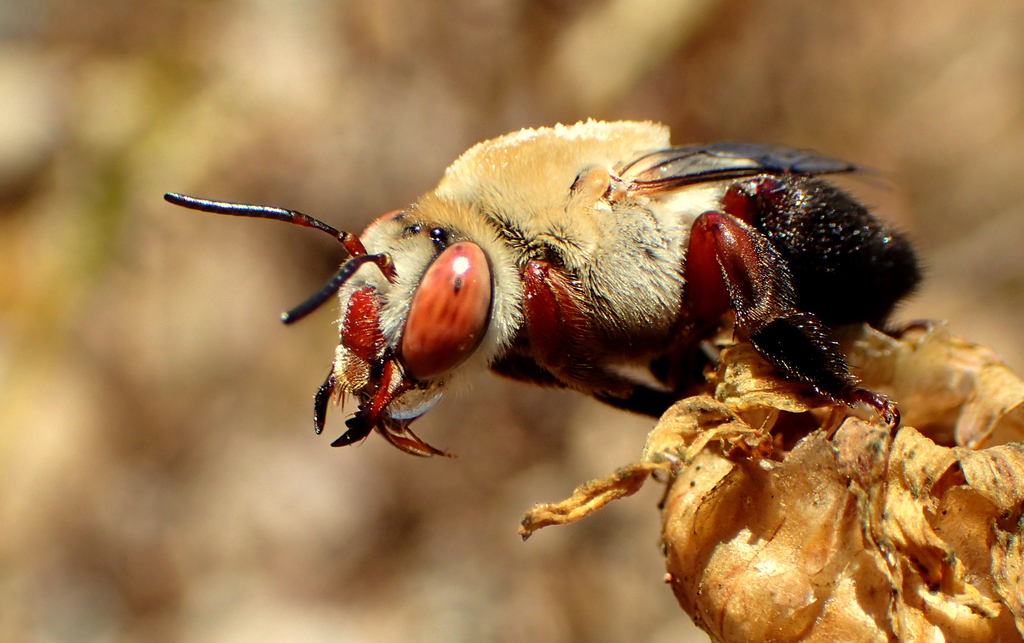not_bumblebee: (164, 117, 923, 465)
